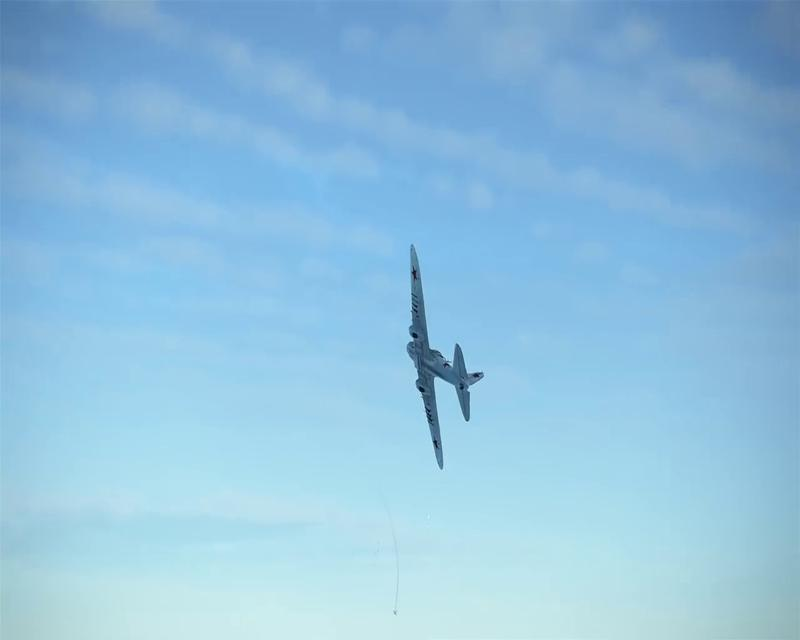UAV: (408, 245, 485, 471)
